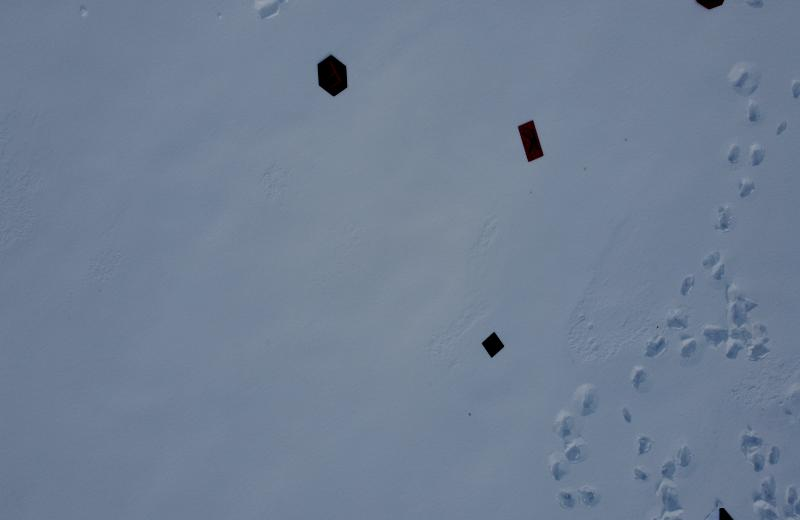Hexagon: (314, 49, 351, 99)
Rectangle: (513, 118, 549, 170)
Square: (478, 328, 508, 364)
